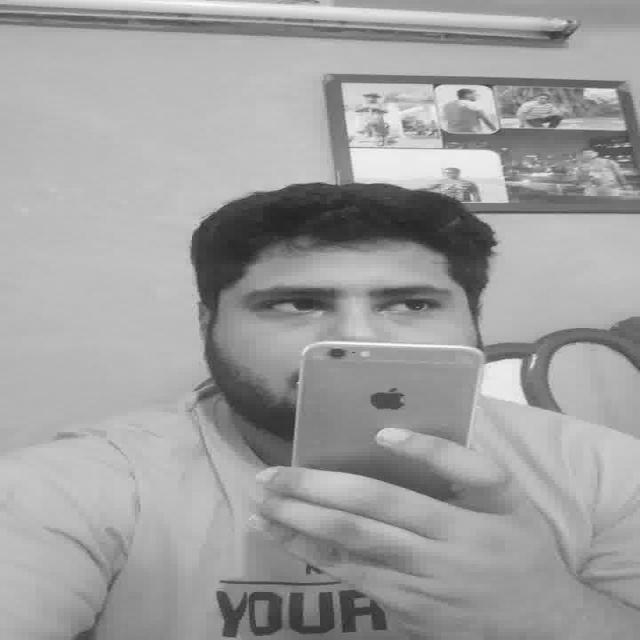fake: (278, 340, 492, 488)
real: (237, 283, 464, 327)
